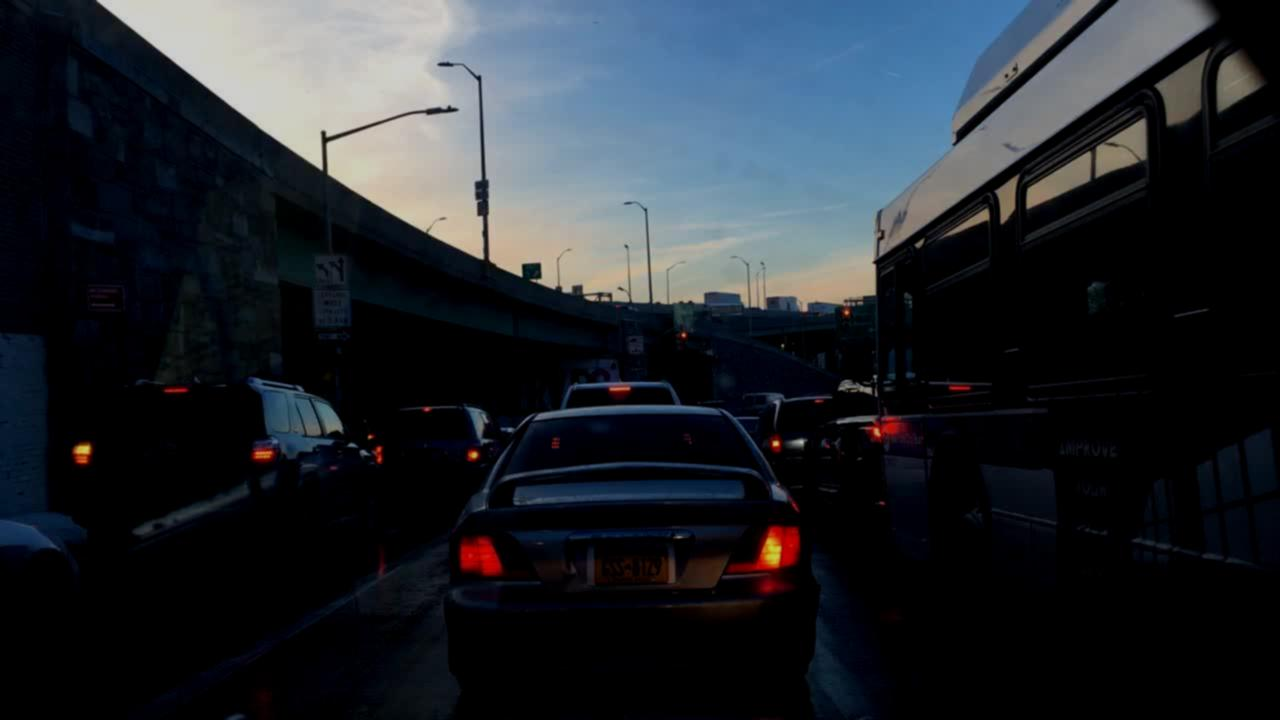Mitsubishi: (609, 499, 659, 538)
Toyota: (152, 433, 187, 462)
